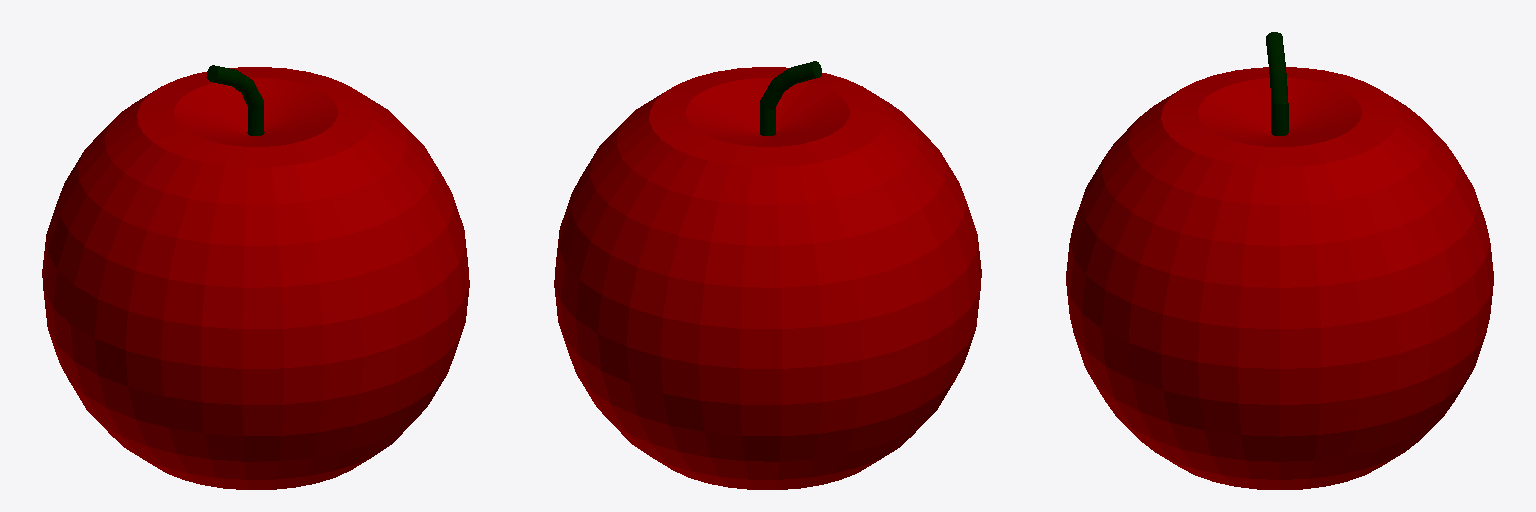
Rendered from tomate.obj.
3 renders of one model, left to right at view 1: azimuth 30°, elevation 25°; view 2: azimuth 150°, elevation 25°; view 3: azimuth 270°, elevation 25°, orthographic.
Visible parts, largest first — view 1: Sphere, Cylinder; view 2: Sphere, Cylinder; view 3: Sphere, Cylinder.
Part boxes in pixels (x1,y1,x2,y2): Sphere: (42,67,469,489); Cylinder: (207,65,264,135); Sphere: (554,67,981,489); Cylinder: (760,61,821,135); Sphere: (1066,67,1493,489); Cylinder: (1266,32,1288,135).
Bounding box in the file's own units: 4 × 4.18 × 4.